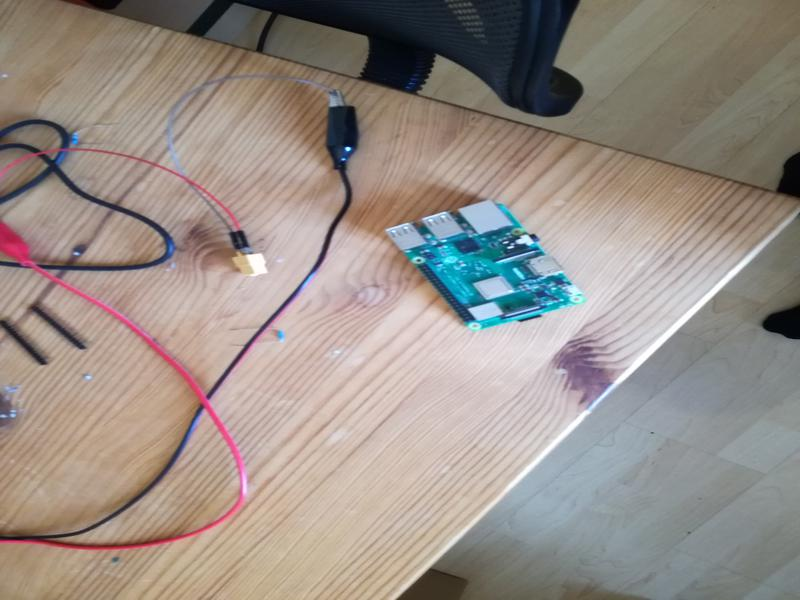Raspberry_Pi_3: (381, 196, 588, 334)
